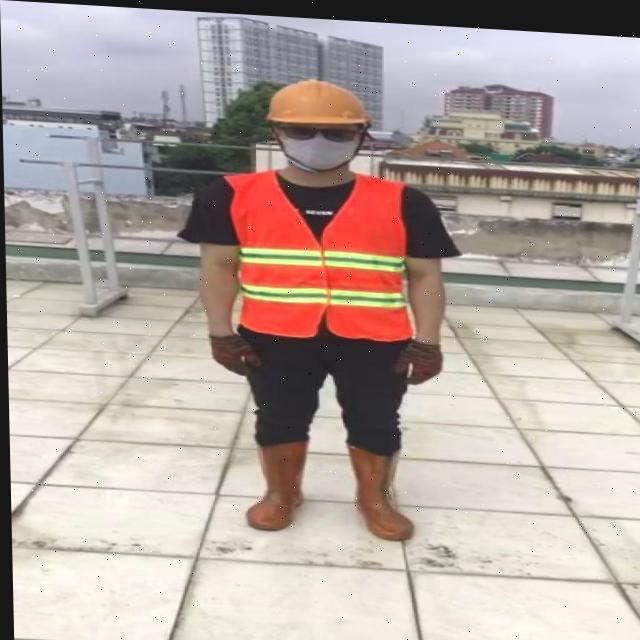Gloves: (390, 333, 441, 381), (207, 328, 259, 374)
Helmet: (263, 73, 370, 171)
Safety-Boot: (344, 437, 412, 537), (241, 430, 307, 529)
Safety-Vest: (221, 161, 413, 340)
